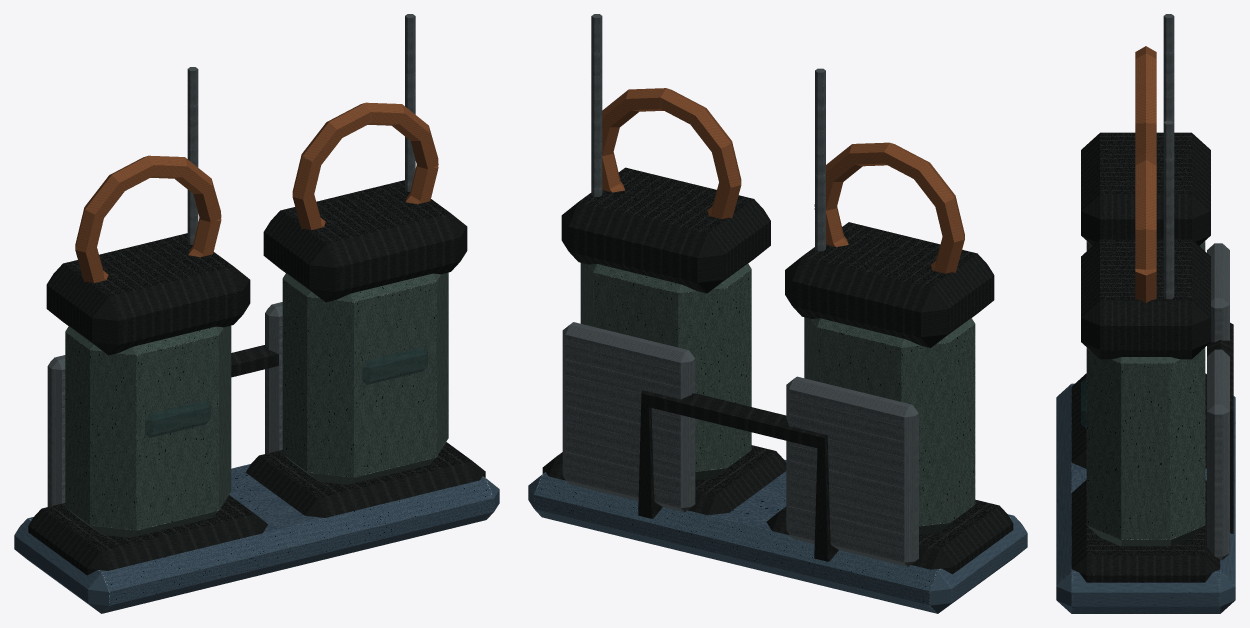
The model's file is blender_emf_array_1.glb.
3 renders of one model, left to right at view 1: azimuth 30°, elevation 25°; view 2: azimuth 150°, elevation 25°; view 3: azimuth 270°, elevation 25°, orthographic. The views are drawn at different scales.
Parts seen in each view (by area): view 1: blender_emf_array_1; view 2: blender_emf_array_1; view 3: blender_emf_array_1.
Part boxes in pixels (box(x1,y1,x2,y2)): blender_emf_array_1: box(14, 14, 499, 613); blender_emf_array_1: box(528, 14, 1027, 613); blender_emf_array_1: box(1056, 14, 1235, 613).
Size of the model in its own units: 0.125 by 0.138 by 0.047.
Materials: 6 (6 with a texture image).
